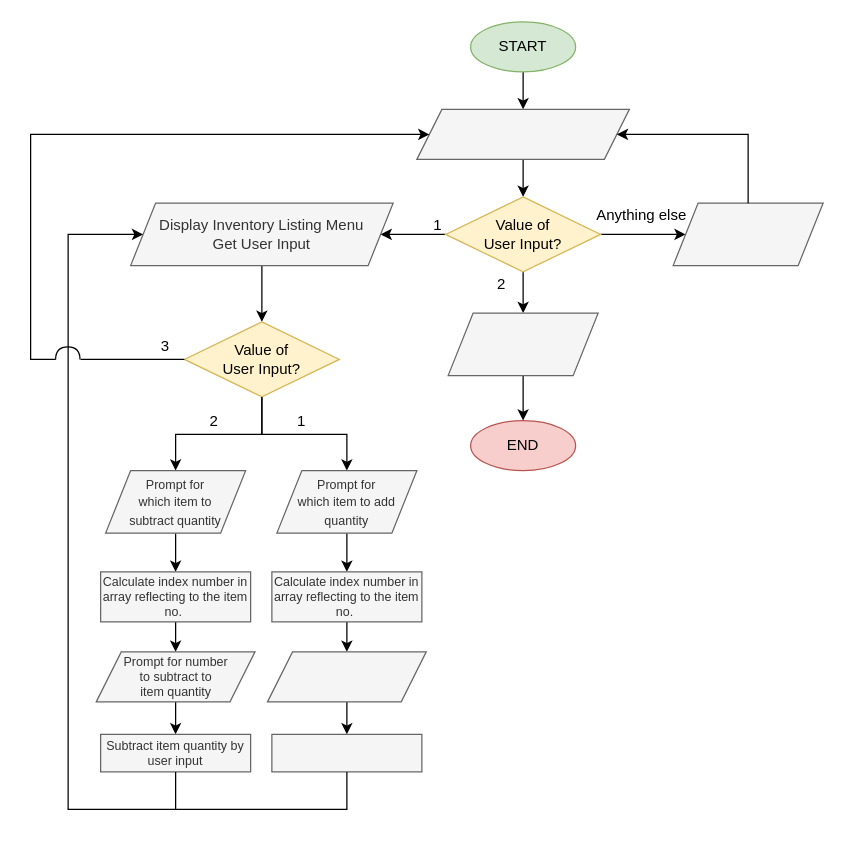
The diagram is 845 pixels wide and 841 high, and some of its shapes have lost their labels. The centre of each missing label's shape, as x and y in pixels:
Add user input to item quantity: (x=346, y=752)
Display "Exiting Program...": (x=522, y=344)
Display error message: (x=747, y=234)
Display Main Menu. Get User Input: (x=522, y=133)
Prompt for number to add to item quantity: (x=346, y=676)
